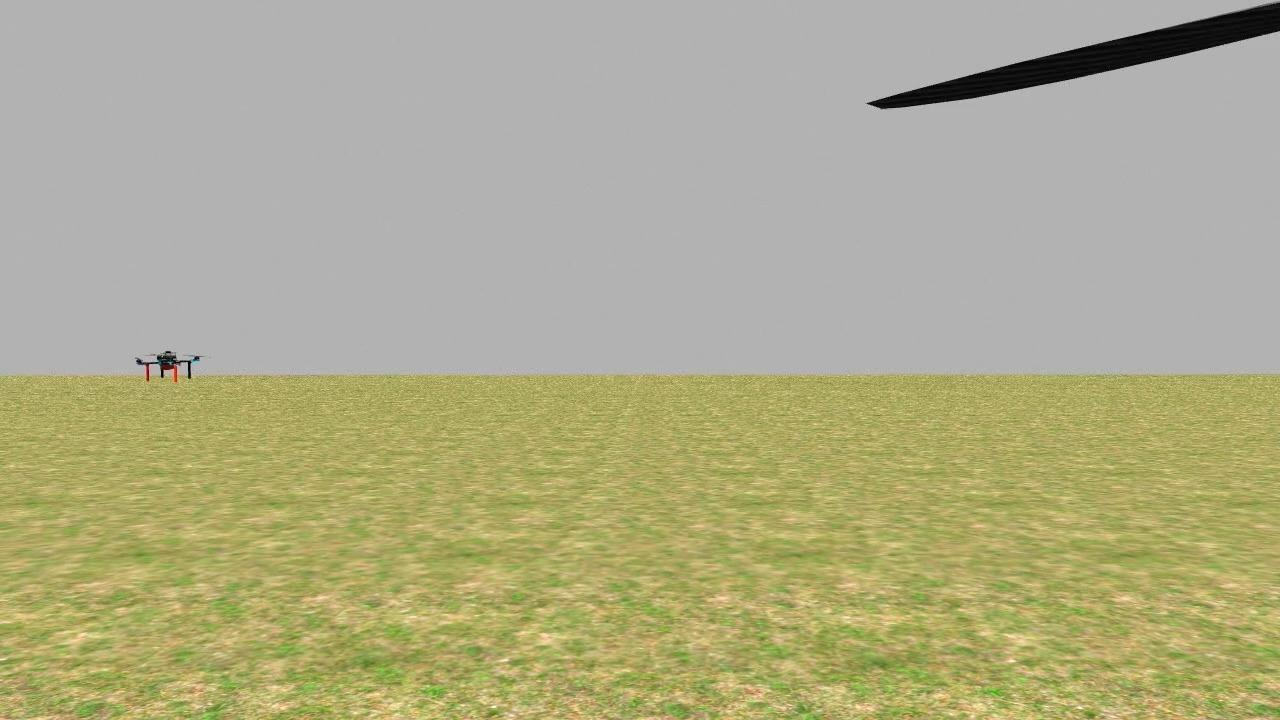UAV: (129, 340, 204, 387)
